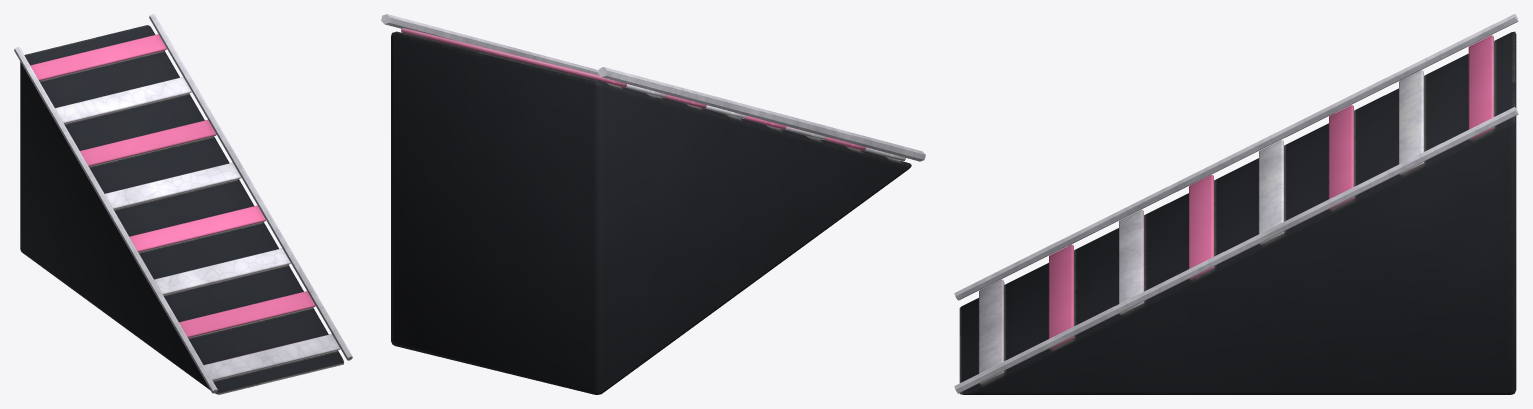
File: sf_ramp.glb
3 views of the same model, side by side, from view 1: azimuth 30°, elevation 25°; view 2: azimuth 150°, elevation 25°; view 3: azimuth 270°, elevation 25° (orthographic). The views are drawn at different scales.
Visible parts, largest first — view 1: sf_ramp; view 2: sf_ramp; view 3: sf_ramp.
Boxes of the visible parts, left/top/right/bottom form: sf_ramp: left=14, top=14, right=352, bottom=394; sf_ramp: left=381, top=14, right=925, bottom=394; sf_ramp: left=954, top=14, right=1518, bottom=394.
Size of the model in its own units: 2.45 by 3.44 by 6.05.
Materials: 3 (3 with a texture image).
